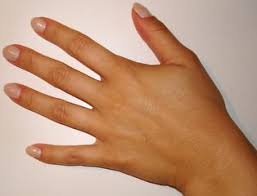hand: (0, 1, 235, 190)
